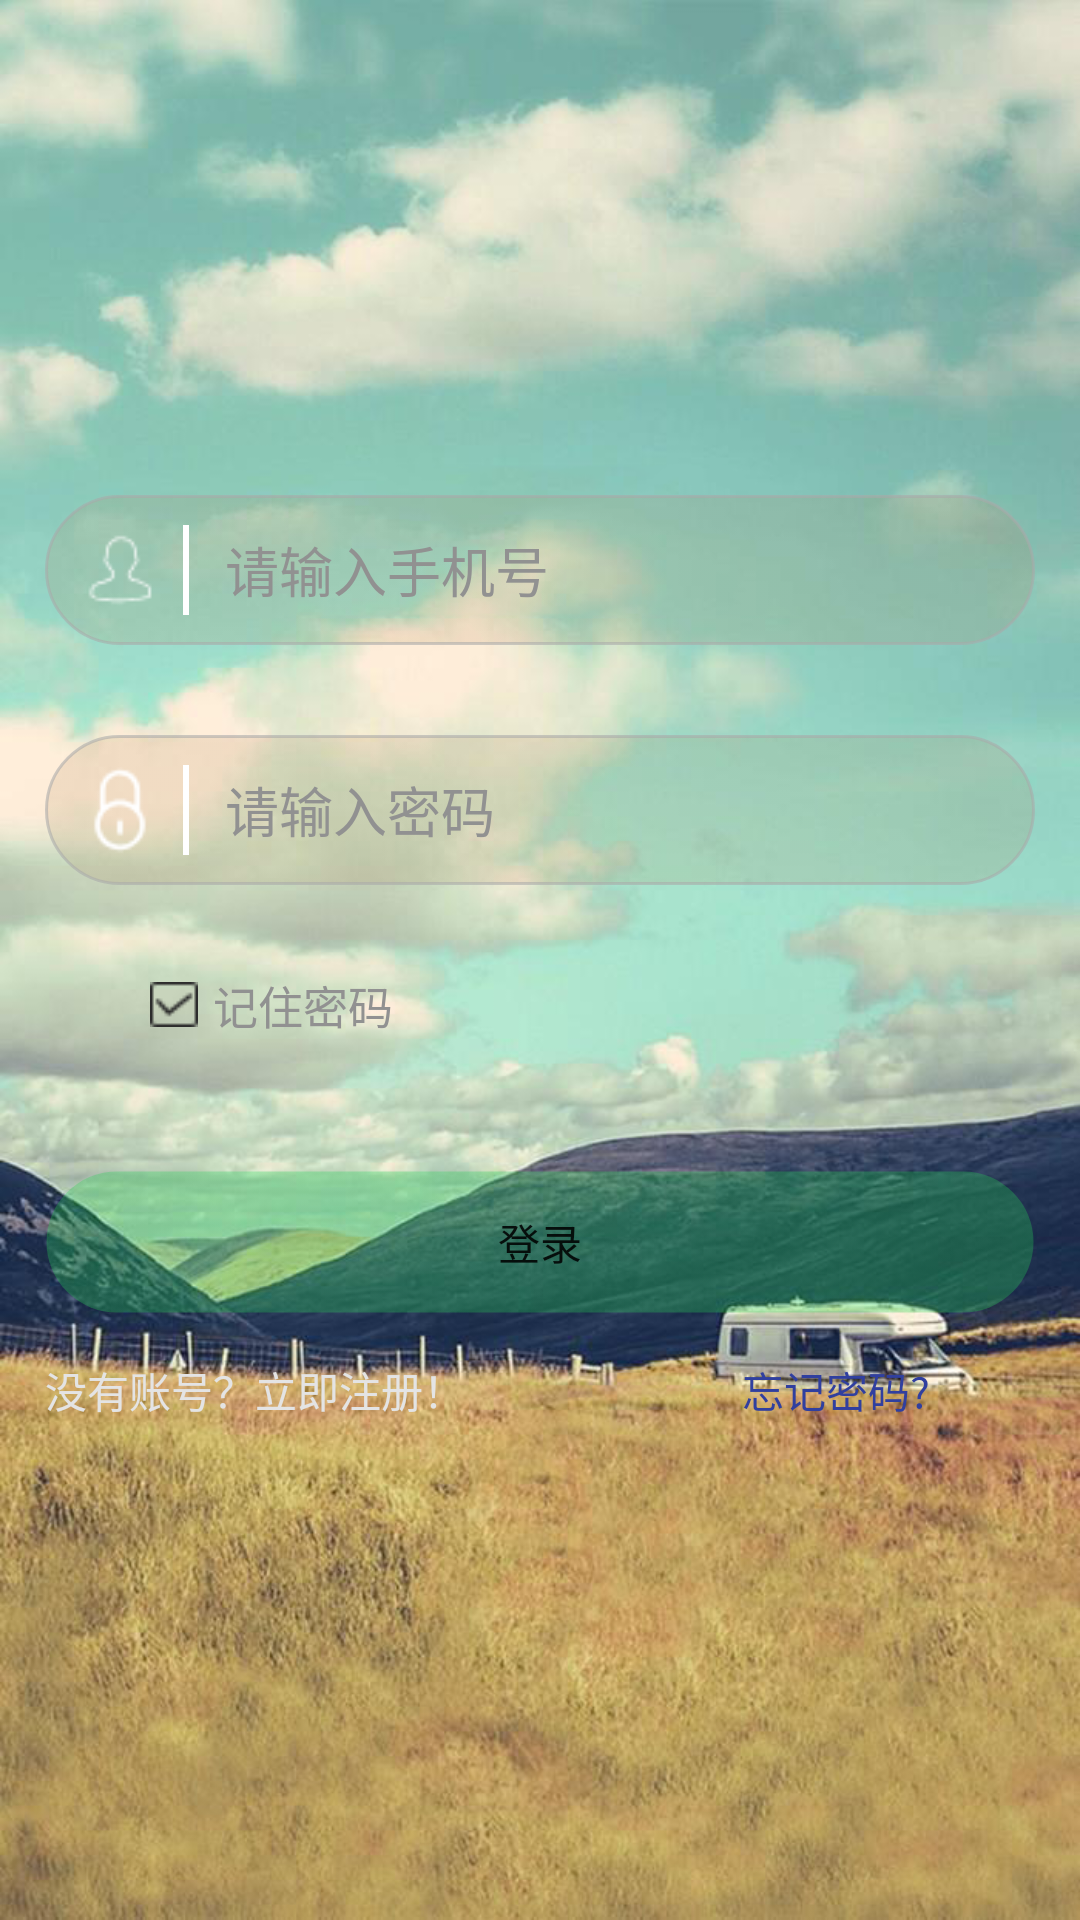

Icon click points for this 1080w x 1920h phone screenshot, format (x=x, y=y):
account: (x=139, y=570)
password: (x=120, y=810)
